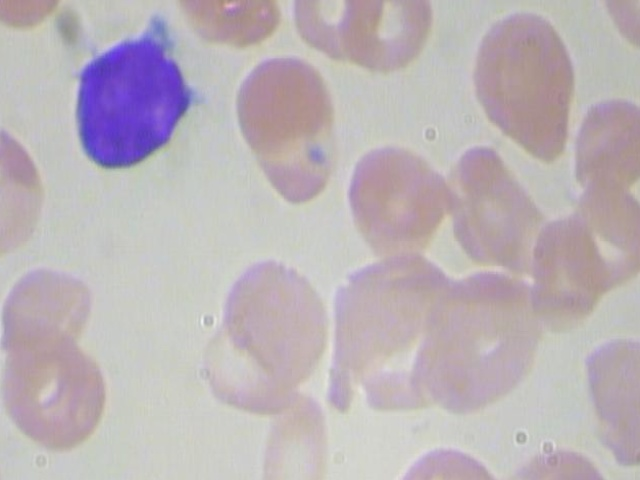RBC: (467, 6, 594, 165), (231, 48, 341, 212), (209, 244, 334, 386), (344, 134, 467, 271), (0, 337, 119, 453), (0, 250, 92, 360), (571, 331, 640, 472), (0, 119, 58, 263), (570, 88, 640, 199), (251, 386, 333, 480), (336, 0, 434, 73), (170, 0, 283, 54), (284, 0, 382, 61), (0, 0, 70, 36)
WBC: (58, 22, 212, 186)
